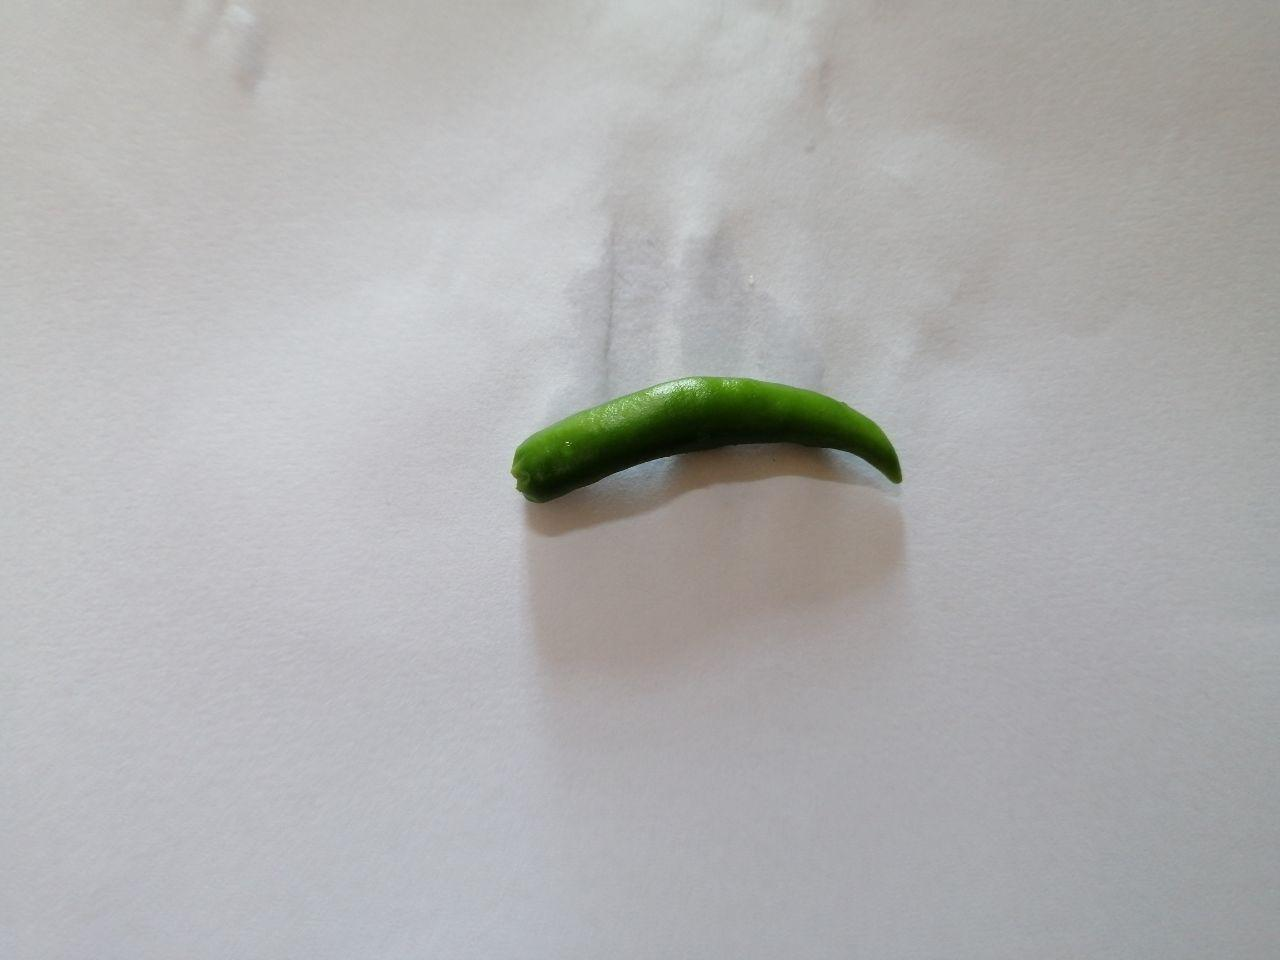lada hijau: (506, 361, 928, 534)
